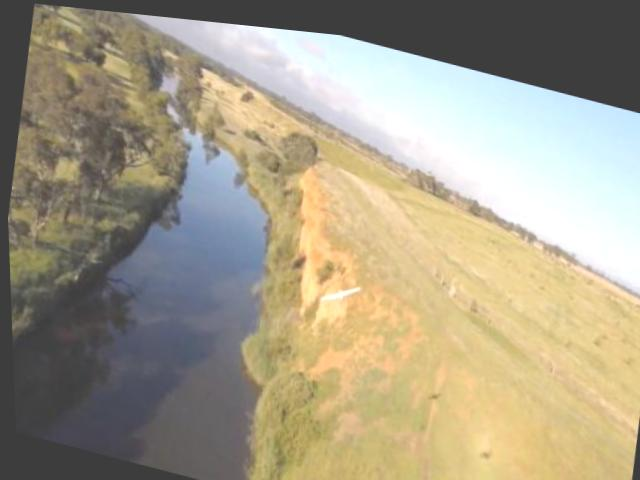uav: (316, 269, 361, 302)
